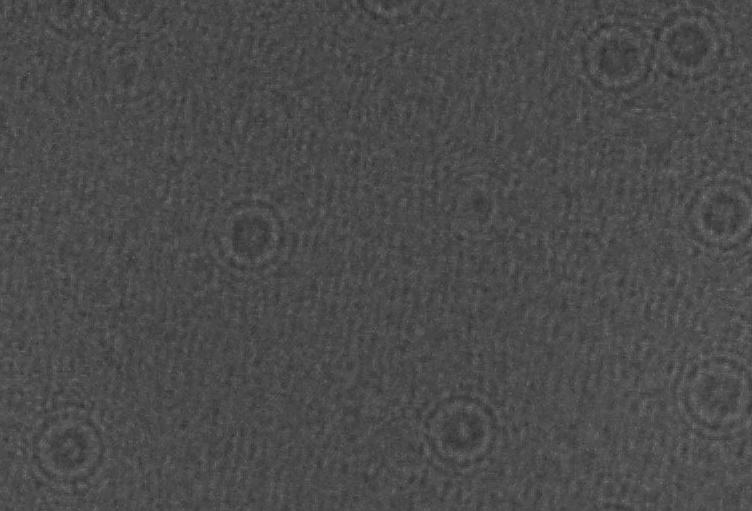bead: (187, 189, 315, 291), (3, 402, 131, 493), (645, 0, 749, 100), (402, 389, 515, 473), (662, 343, 752, 445), (667, 161, 752, 267), (567, 11, 654, 98), (324, 0, 456, 42)
